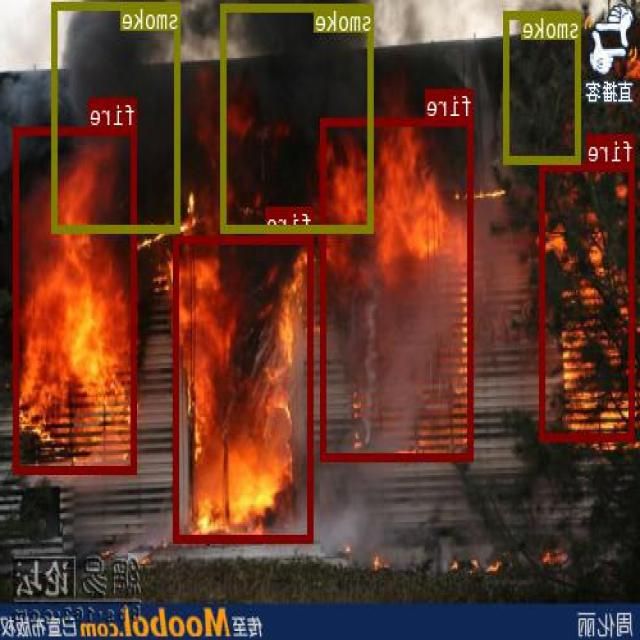fire: (322, 118, 474, 460), (14, 126, 138, 472), (175, 235, 314, 542), (541, 162, 636, 440)
smoke: (222, 3, 374, 231), (53, 1, 181, 231), (504, 9, 582, 162)
